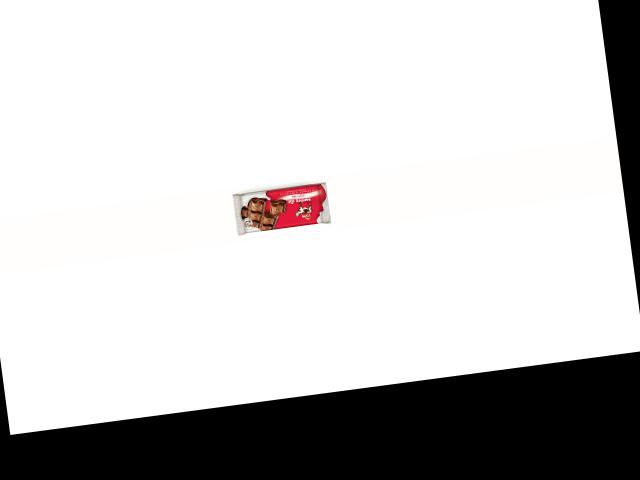chocolate: (227, 157, 346, 230)
